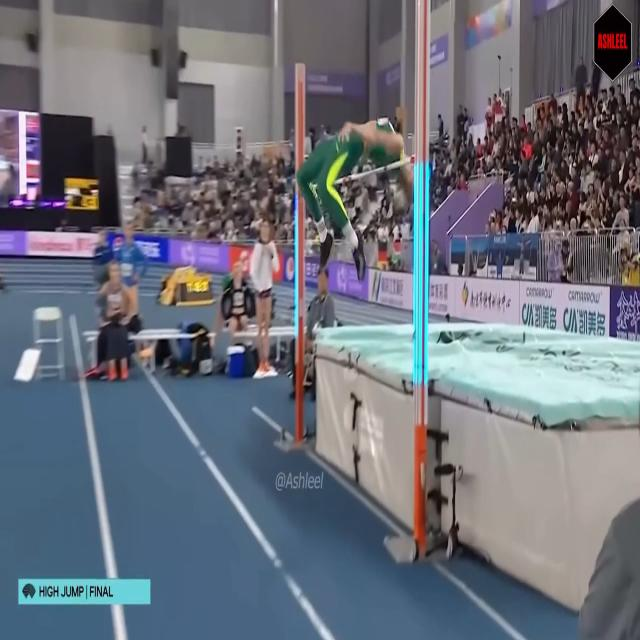jump: (296, 119, 415, 280)
